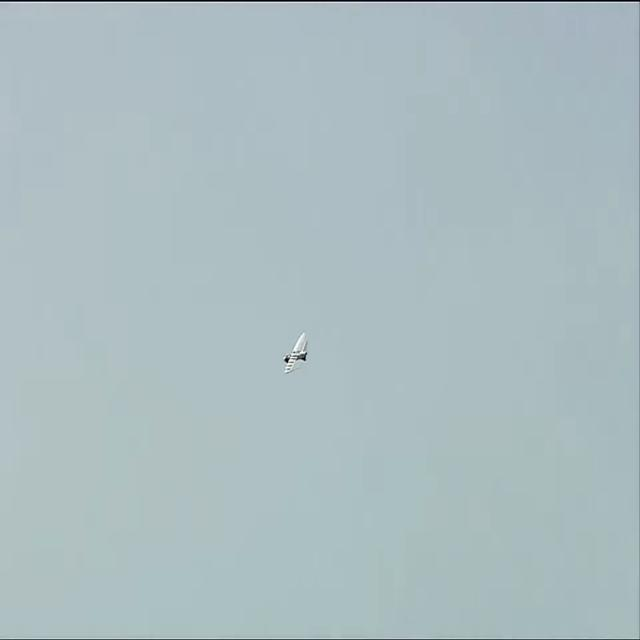iha: (281, 332, 309, 376)
